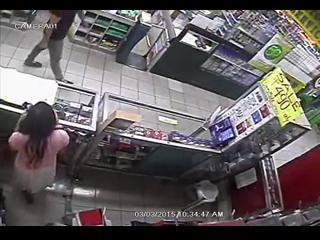Normal: (6, 102, 70, 214), (23, 10, 79, 84)
